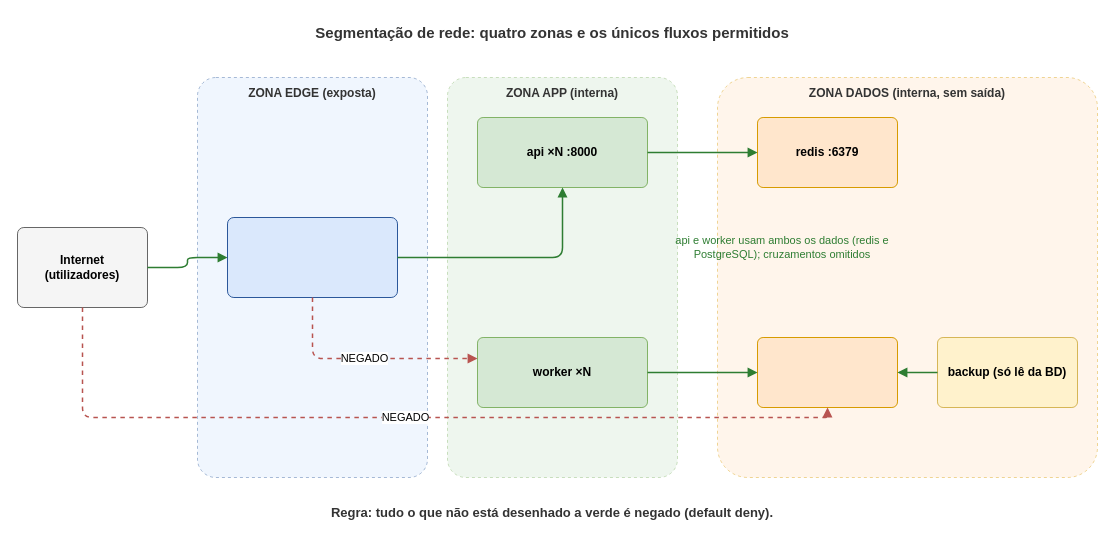
The diagram is 1115 pixels wide and 544 high, and some of its shapes have lost their labels. The shapes that lost their labels are listed below. From the top down, each one's box as (x1, y1, x2, y2) in pixels, then its label:
(226, 216, 398, 298): balanceador / web :80 :443
(756, 336, 898, 408): PostgreSQL :5432
